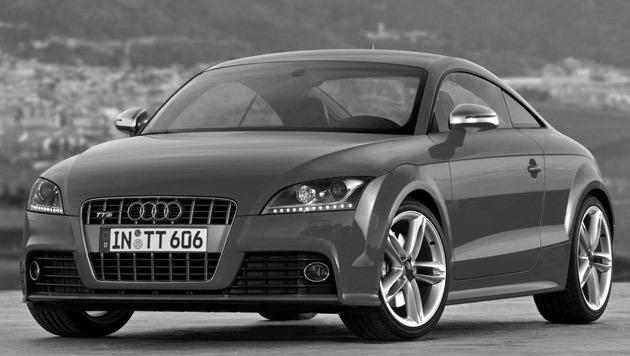car: (23, 47, 617, 344)
